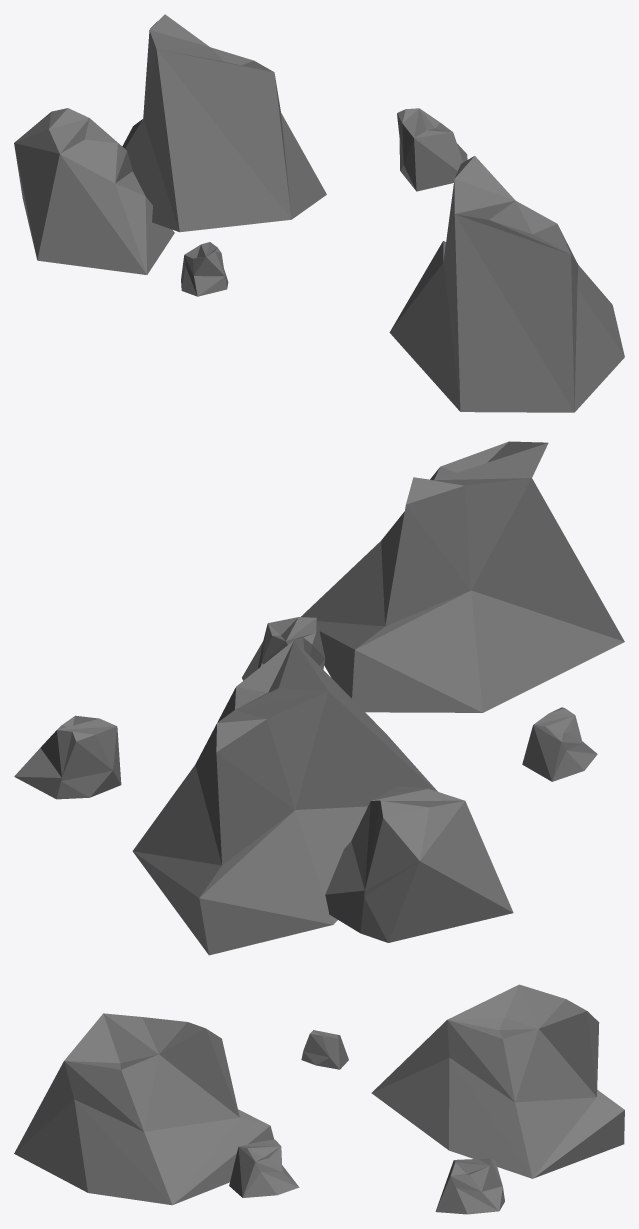
Rendered from rock5.obj.
3 views of the same model, one above another, from view 1: azimuth 30°, elevation 25°; view 2: azimuth 150°, elevation 25°; view 3: azimuth 270°, elevation 25° (orthographic). The views are drawn at different scales.
Parts seen in each view (by area): view 1: group765248285, group1383753236, group337471551, group697255115, group295268605; view 2: group765248285, group1383753236, group337471551, group697255115, group295268605, group821822121; view 3: group765248285, group1383753236, group697255115, group821822121, group295268605.
Part boxes in pixels (box(x1,y1,x2,y2)): group765248285: box(389, 156, 624, 412); group1383753236: box(122, 14, 326, 232); group337471551: box(14, 108, 174, 274); group697255115: box(397, 108, 467, 191); group295268605: box(181, 242, 228, 296); group765248285: box(301, 441, 624, 712); group1383753236: box(132, 640, 437, 955); group337471551: box(325, 786, 513, 942); group697255115: box(14, 715, 121, 799); group295268605: box(522, 707, 597, 781); group821822121: box(242, 617, 325, 680); group765248285: box(14, 1013, 274, 1205); group1383753236: box(371, 984, 624, 1178); group697255115: box(435, 1158, 504, 1214); group821822121: box(229, 1139, 299, 1197); group295268605: box(301, 1030, 348, 1069).
Size of the model in its own units: 0.148 by 0.0638 by 0.2339.
1 material, 1 textured.
